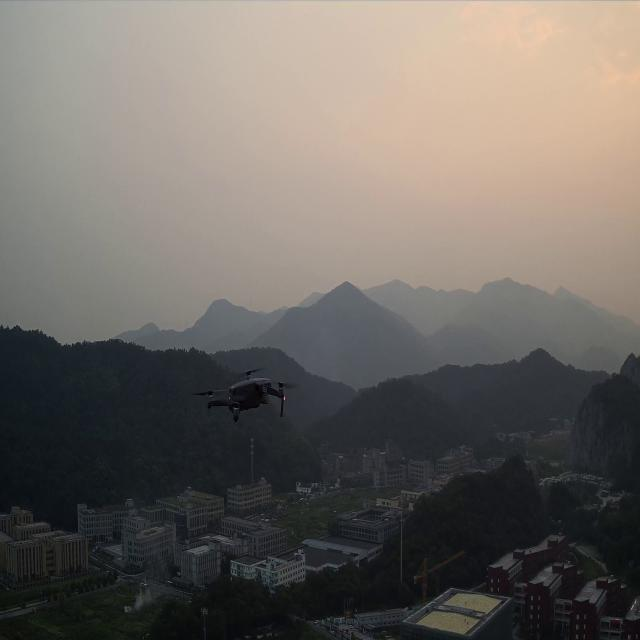UAV: (192, 366, 298, 422)
